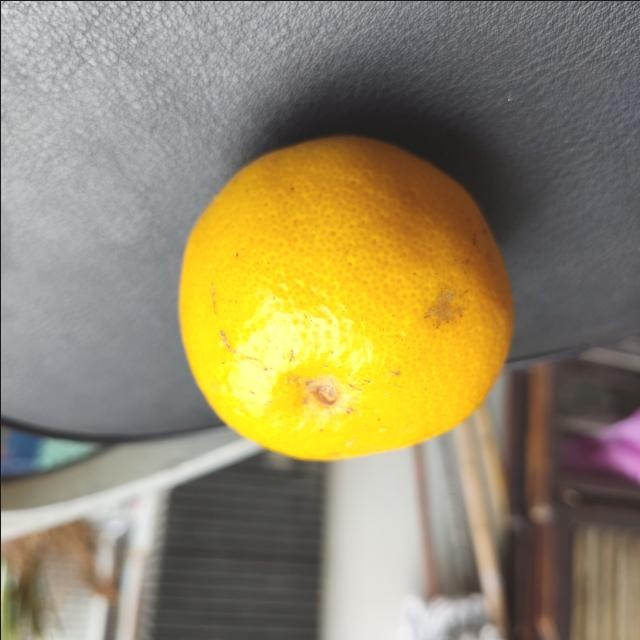agrume: (176, 132, 518, 464)
